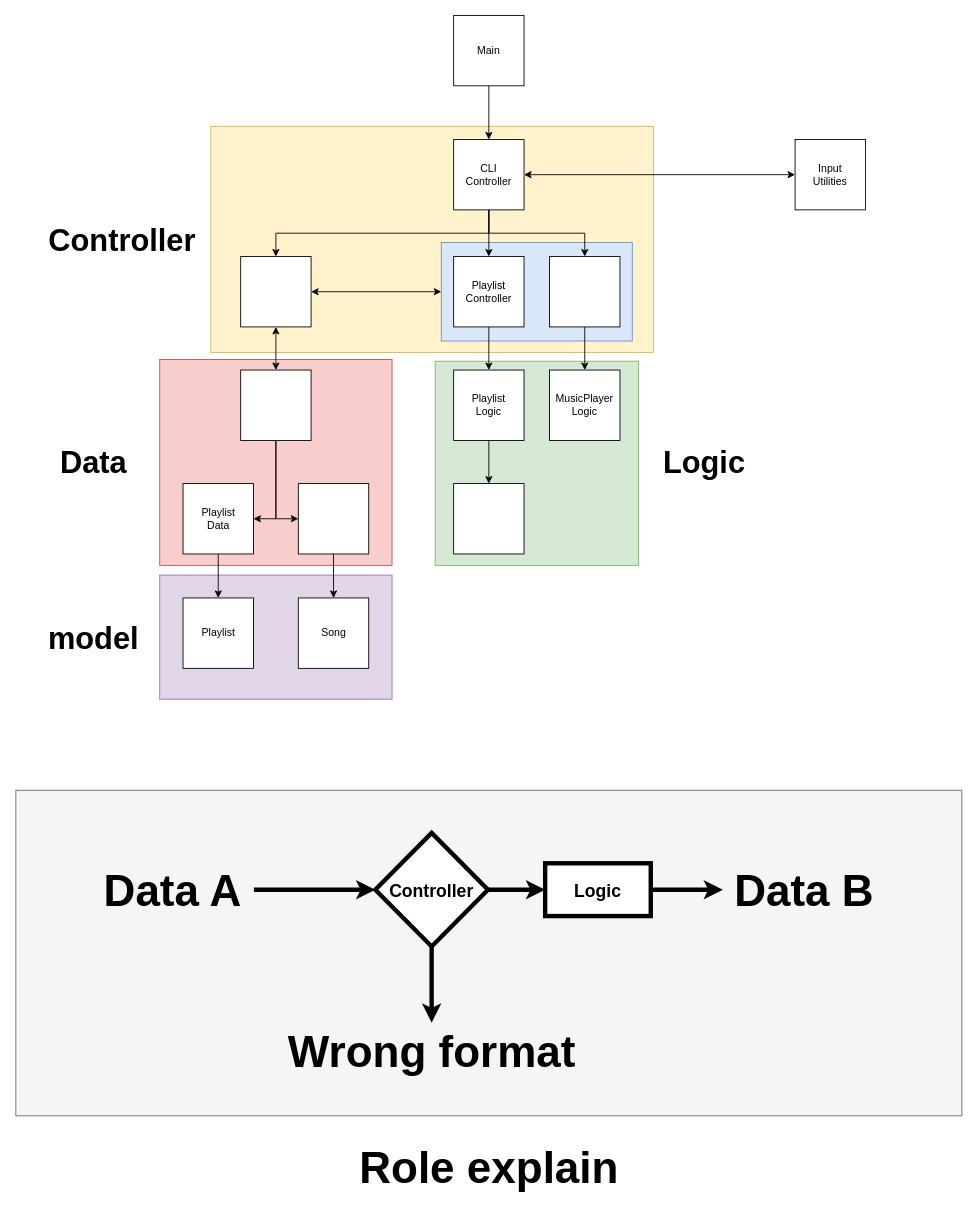
This 977x1208 diagram has some shape labels left out. The box of each missing label's shape, as (x1, y1, x2, y2) in pixels:
DataManager: (240, 256, 311, 327)
FileHandler: (240, 369, 311, 440)
MusicPlayer Controller: (549, 256, 620, 327)
Song Data: (297, 483, 369, 554)
Song Logic: (453, 483, 524, 554)
